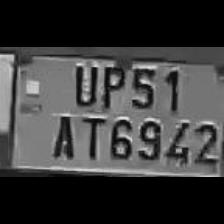1: (159, 64, 185, 114)
2: (190, 119, 218, 167)
4: (163, 117, 191, 165)
5: (126, 61, 158, 109)
6: (104, 116, 134, 162)
9: (134, 116, 162, 162)
A: (45, 111, 76, 160)
P: (96, 58, 126, 110)
T: (74, 113, 104, 162)
U: (68, 60, 98, 108)
